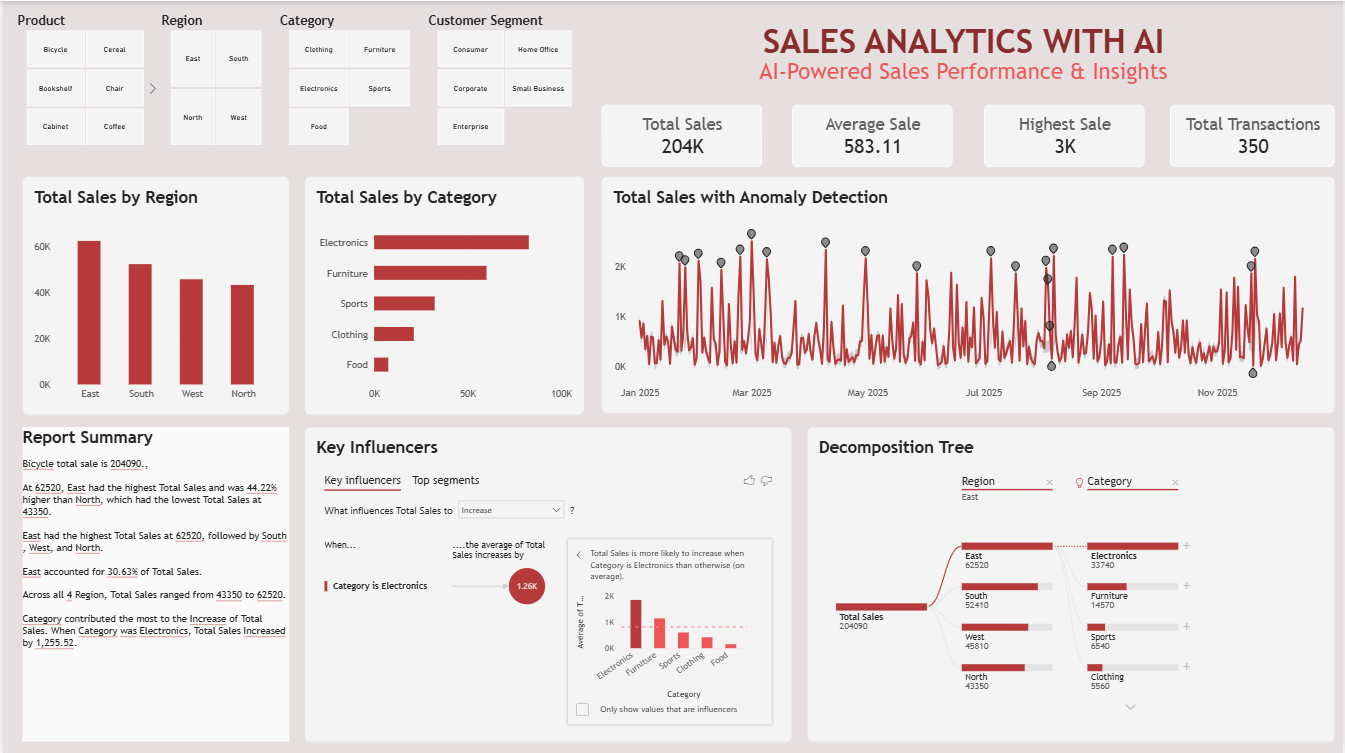

This screenshot's page, from the dashboard's own definition file:
{"tool":"powerbi","page":{"name":"Page 1","canvas":[1920,1080],"ordinal":0},"visuals":[{"type":"cardVisual","fields":{"Data":["Sales Data Clean.Total Sales"]},"box":[857.3,148.7,230,90],"z":0},{"type":"clusteredColumnChart","fields":{"Category":["Sales Data Clean.Region"],"Y":["Sales Data Clean.Total Sales"]},"box":[28.6,250.5,381.7,341.2],"z":1000},{"type":"clusteredBarChart","fields":{"Category":["Sales Data Clean.Category"],"Y":["Sales Data Clean.Total Sales"]},"box":[431.9,250.5,400.8,341.2],"z":2000},{"type":"lineChart","title":"Total Sales with Anomaly Detection","fields":{"Category":["Sales Data Clean.Date"],"Y":["Sales Data Clean.Total Sales"]},"box":[857.3,251.4,1050.7,339.5],"z":3000},{"type":"keyDriversVisual","title":"Key Influencers","fields":{"ExplainBy":["Sales Data Clean.Category","Sales Data Clean.Product","Sales Data Clean.Region","Sales Data Clean.Customer Segment"],"Target":["Sales Data Clean.Total Sales"]},"box":[431.9,610.2,698.3,451.2],"z":4000},{"type":"decompositionTreeVisual","title":"Decomposition Tree","fields":{"Analyze":["Sales Data Clean.Total Sales"],"ExplainBy":["Sales Data Clean.Region","Sales Data Clean.Category","Sales Data Clean.Customer Segment","Sales Data Clean.Product"]},"box":[1151.6,610.2,756.3,451.2],"z":5000},{"type":"textbox","title":"Report Summary","box":[28.6,610.8,381.7,450.9],"z":6000},{"type":"cardVisual","fields":{"Data":["Sales Data Clean.Average Sale"]},"box":[1130.9,148.7,230,90],"z":7000},{"type":"cardVisual","fields":{"Data":["Sales Data Clean.Highest Sale"]},"box":[1404.5,148.7,230,90],"z":8000},{"type":"cardVisual","fields":{"Data":["Sales Data Clean.Total Transactions"]},"box":[1671.6,148.3,236.3,90.2],"z":9000},{"type":"textbox","box":[851.8,16.7,1049.8,124.1],"z":10000},{"type":"slicer","fields":{"Values":["Sales Data Clean.Region"]},"box":[219.5,16.7,169.4,190.9],"z":11000},{"type":"slicer","fields":{"Values":["Sales Data Clean.Category"]},"box":[388.9,16.7,212.3,190.9],"z":12000},{"type":"slicer","fields":{"Values":["Sales Data Clean.Product"]},"box":[11.9,16.7,207.6,190.9],"z":13000},{"type":"slicer","fields":{"Values":["Sales Data Clean.Customer Segment"]},"box":[601.3,16.7,231.4,190.9],"z":14000}]}

Visuals, with their boxes in screenshot pixels (x1, y1, x2, y2), scaled from the page's 1920x1080 canvas onto the 1345x753 screenshot:
cardVisual - Sales Data Clean.Total Sales: <region>601, 104, 762, 166</region>
clusteredColumnChart - Sales Data Clean.Region x Sales Data Clean.Total Sales: <region>20, 175, 287, 413</region>
clusteredBarChart - Sales Data Clean.Category x Sales Data Clean.Total Sales: <region>303, 175, 583, 413</region>
"Total Sales with Anomaly Detection" lineChart: <region>601, 175, 1337, 412</region>
"Key Influencers" keyDriversVisual: <region>303, 425, 792, 740</region>
"Decomposition Tree" decompositionTreeVisual: <region>807, 425, 1337, 740</region>
"Report Summary" textbox: <region>20, 426, 287, 740</region>
cardVisual - Sales Data Clean.Average Sale: <region>792, 104, 953, 166</region>
cardVisual - Sales Data Clean.Highest Sale: <region>984, 104, 1145, 166</region>
cardVisual - Sales Data Clean.Total Transactions: <region>1171, 103, 1337, 166</region>
textbox: <region>597, 12, 1332, 98</region>
slicer - Sales Data Clean.Region: <region>154, 12, 272, 145</region>
slicer - Sales Data Clean.Category: <region>272, 12, 421, 145</region>
slicer - Sales Data Clean.Product: <region>8, 12, 154, 145</region>
slicer - Sales Data Clean.Customer Segment: <region>421, 12, 583, 145</region>
